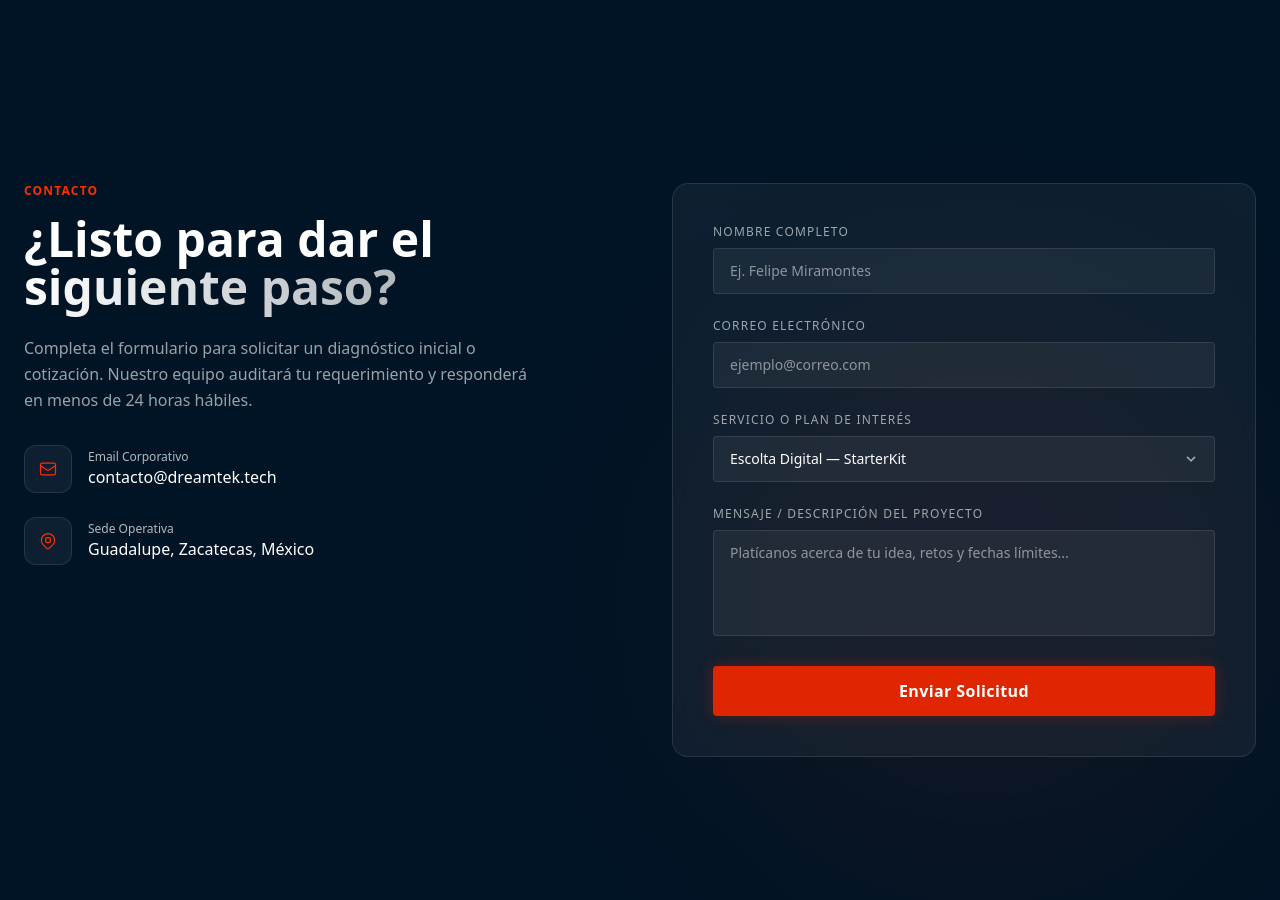
Test case: Contact Component › debe mostrar error de red cuando el envío de código genera una excepción fetch
In the field with placeholder "Ej. Felipe Miramontes": (964, 271) [713, 248, 1215, 294], type "Felipe"
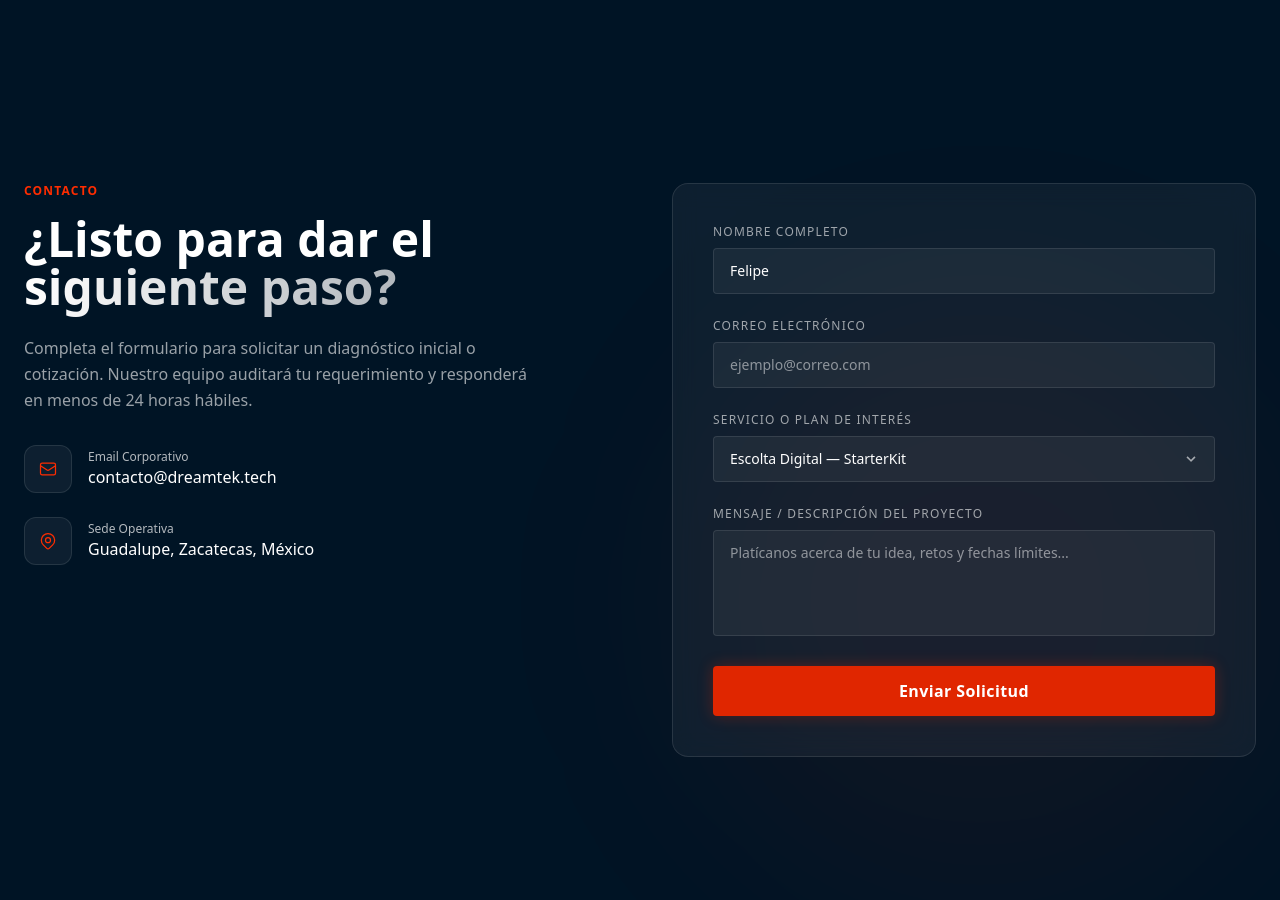
In the field with placeholder "ejemplo@correo.com": (964, 365) [713, 342, 1215, 388], type "felipe@test.com"
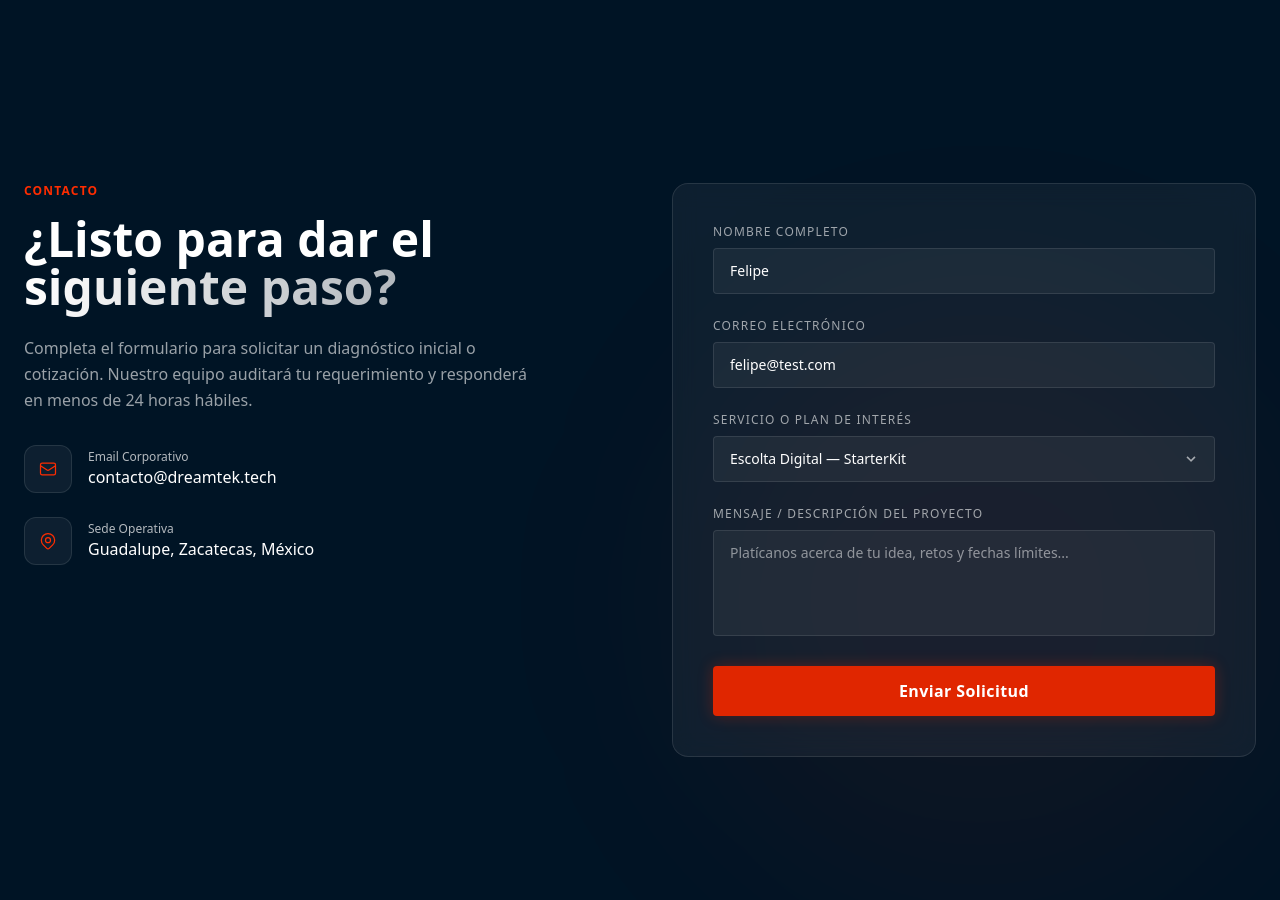
In the text box with placeholder "Platícanos acerca de tu idea, retos y fechas límites...": (964, 583) [713, 530, 1215, 636], type "Hola"
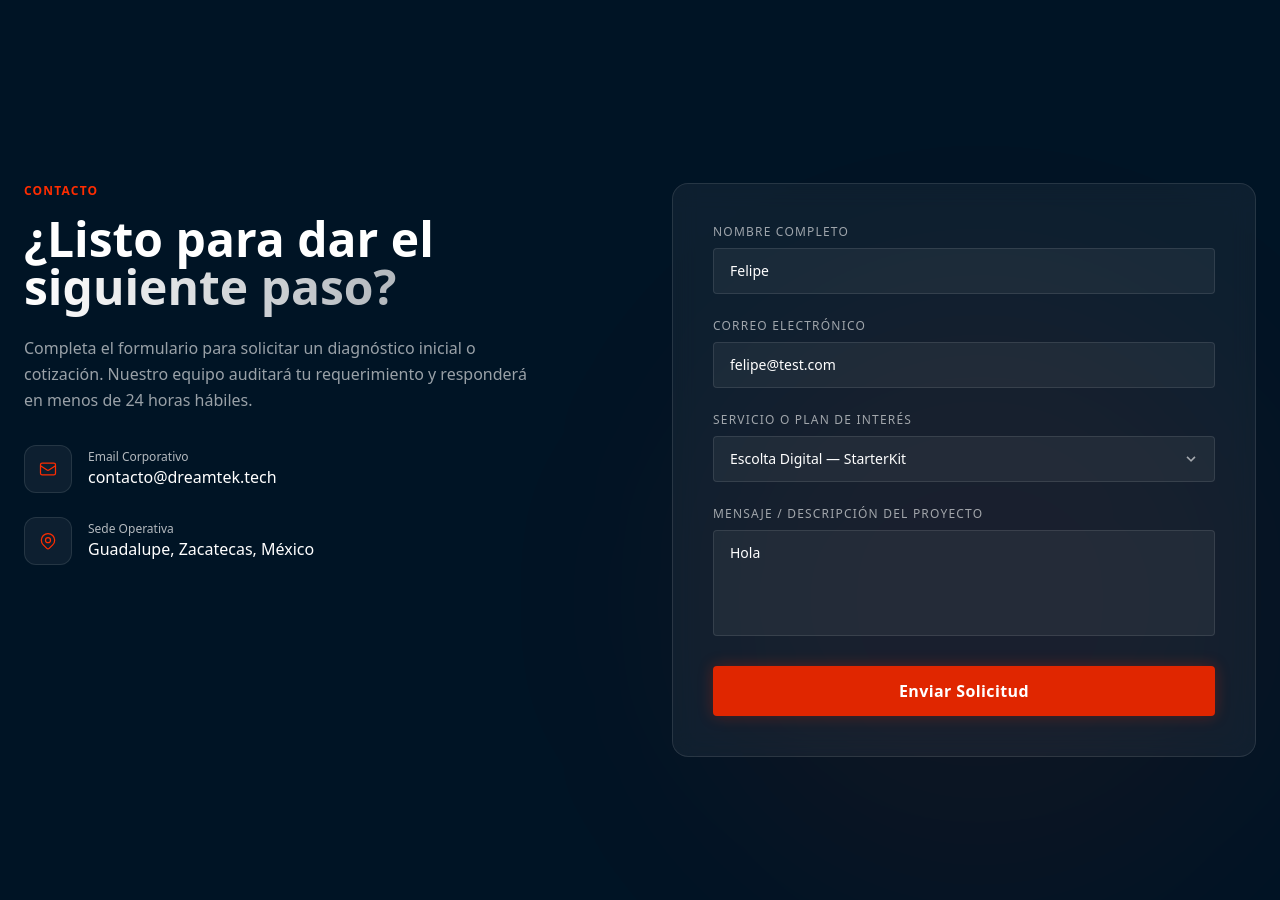
Click the button "Enviar Solicitud": (964, 691) [713, 666, 1215, 716]
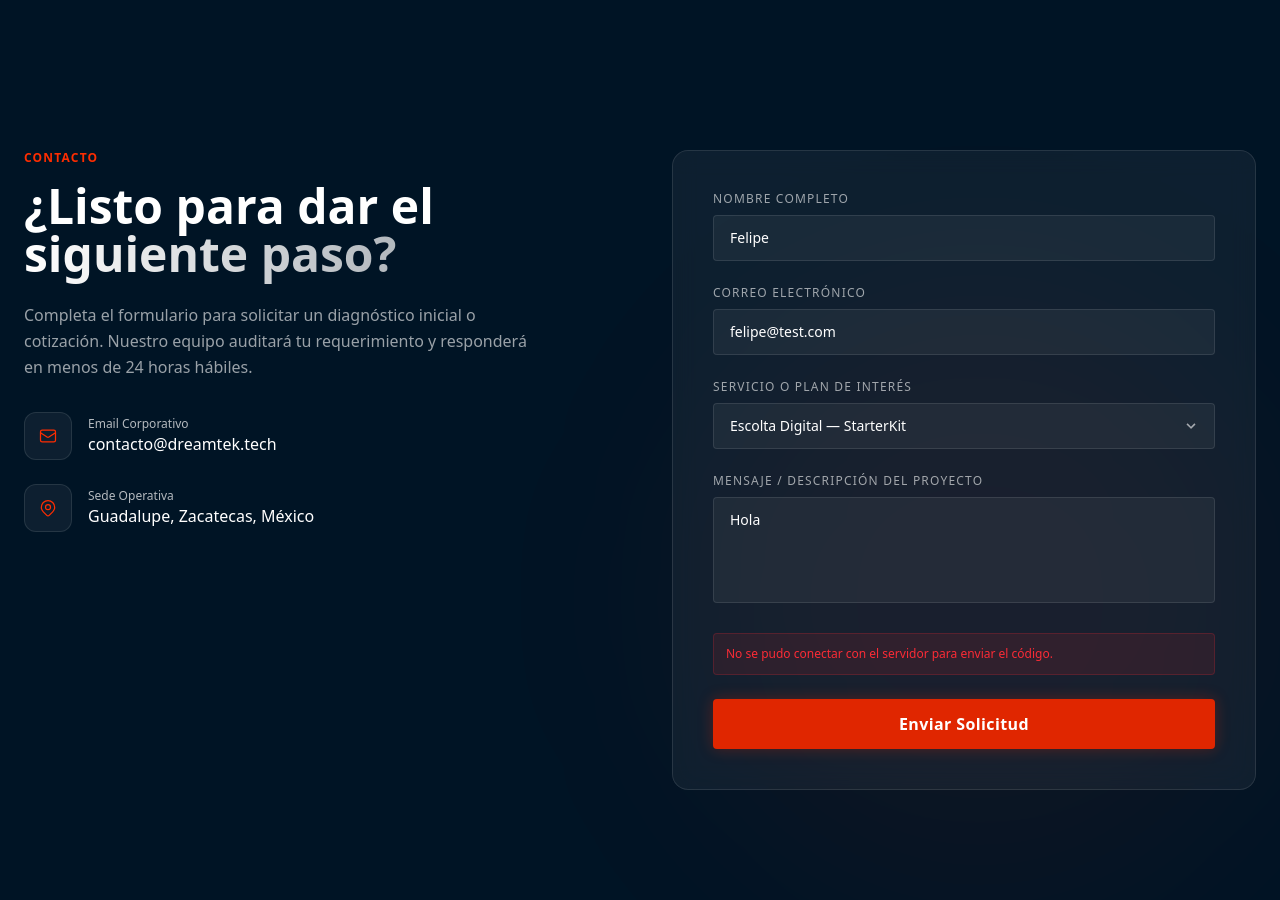
Result: the text "No se pudo conectar con el servidor para enviar el código." is shown at [713, 633, 1215, 675]
